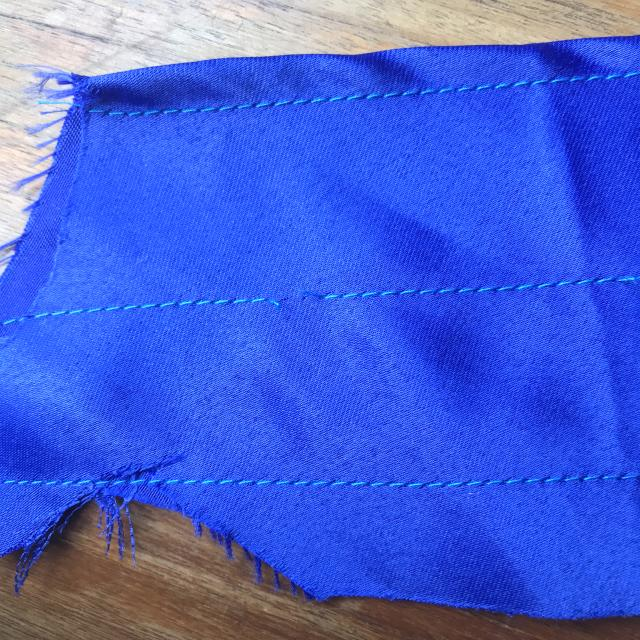broken: (221, 284, 373, 330)
